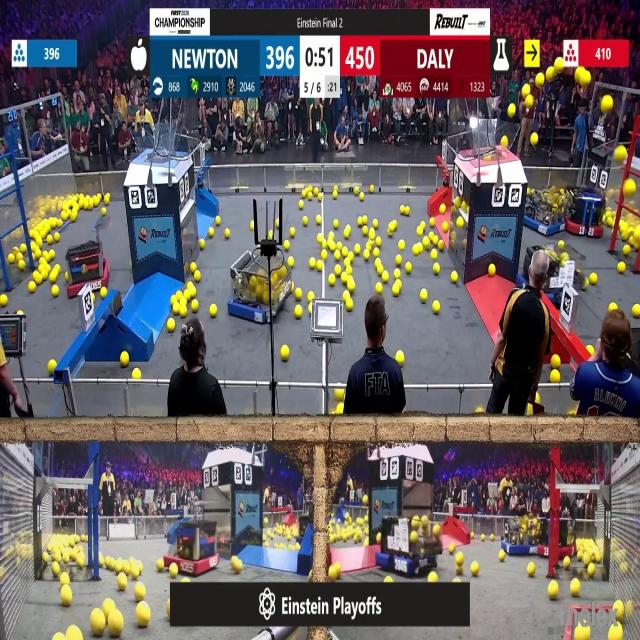ball_airborne: (601, 96, 612, 114), (580, 71, 592, 86), (616, 146, 628, 160), (625, 180, 636, 194), (555, 59, 564, 73), (535, 74, 544, 86), (507, 104, 514, 118), (523, 86, 531, 98), (526, 96, 534, 108), (545, 68, 553, 80), (531, 134, 538, 146), (145, 110, 152, 122), (500, 137, 507, 148), (362, 496, 368, 505)
ball_ground: (108, 615, 123, 638), (92, 614, 106, 638), (137, 603, 150, 627), (550, 582, 560, 600), (62, 588, 72, 606), (135, 585, 146, 601), (68, 628, 82, 640), (570, 581, 579, 599), (616, 602, 625, 620), (233, 557, 243, 573), (613, 626, 624, 640), (117, 573, 126, 590), (328, 565, 338, 580), (574, 628, 586, 640), (119, 351, 128, 366), (281, 345, 289, 361), (552, 354, 561, 368), (551, 371, 561, 383), (76, 556, 85, 568), (170, 564, 178, 577), (470, 562, 478, 575), (168, 319, 176, 332), (47, 359, 55, 372), (632, 305, 640, 318), (337, 388, 345, 401), (428, 571, 437, 582), (61, 573, 70, 584), (210, 305, 217, 319), (421, 288, 428, 302), (54, 563, 61, 577), (432, 302, 440, 314), (590, 274, 598, 286), (588, 564, 596, 576), (172, 304, 180, 316), (104, 599, 112, 611), (0, 347, 5, 366), (528, 563, 535, 576), (294, 306, 301, 319), (526, 405, 533, 418), (132, 566, 139, 579), (106, 557, 113, 570), (346, 301, 354, 312), (133, 367, 141, 378), (49, 272, 57, 283), (382, 273, 390, 284), (1, 294, 8, 306), (190, 302, 197, 314), (51, 285, 58, 297), (294, 288, 301, 300), (456, 554, 463, 566), (489, 266, 496, 278), (99, 286, 106, 298), (396, 352, 403, 364), (158, 560, 165, 572), (33, 272, 40, 284), (99, 556, 106, 568), (392, 285, 400, 295), (192, 272, 200, 282), (39, 272, 47, 282), (42, 554, 50, 564), (180, 307, 187, 318), (336, 266, 343, 277), (430, 249, 437, 260), (316, 261, 323, 272), (457, 217, 464, 228), (29, 282, 36, 293), (327, 241, 334, 252), (452, 272, 458, 284), (377, 264, 383, 276), (307, 260, 313, 272), (338, 406, 345, 416), (394, 270, 401, 280), (17, 262, 24, 272), (47, 250, 54, 260), (423, 239, 430, 249), (345, 254, 352, 264), (413, 244, 420, 254), (620, 264, 626, 275), (348, 280, 354, 291), (407, 264, 413, 275), (355, 244, 361, 255), (431, 238, 437, 249), (55, 633, 64, 640), (188, 288, 195, 297), (316, 234, 323, 243), (356, 217, 363, 226), (389, 220, 396, 229), (365, 241, 372, 250), (377, 283, 383, 293), (396, 255, 402, 265), (498, 552, 504, 562), (433, 265, 439, 275), (308, 291, 314, 301), (564, 558, 570, 568), (284, 240, 290, 250), (624, 246, 630, 256), (441, 205, 447, 215), (345, 228, 350, 240), (398, 240, 404, 250), (328, 276, 334, 286), (449, 542, 455, 552), (289, 229, 295, 239), (588, 346, 594, 356), (363, 250, 369, 260), (534, 393, 540, 403), (336, 250, 342, 260), (456, 564, 462, 574), (439, 241, 445, 251), (344, 290, 350, 300), (104, 192, 110, 202), (606, 217, 612, 227), (64, 554, 70, 564), (94, 199, 100, 209), (576, 552, 582, 562), (608, 304, 615, 312), (385, 575, 392, 583), (374, 248, 381, 256), (35, 250, 42, 258), (288, 256, 293, 267), (316, 215, 322, 224), (200, 240, 206, 249), (189, 264, 195, 273), (321, 250, 327, 259), (55, 234, 61, 243), (342, 248, 348, 257), (371, 219, 377, 228), (335, 219, 341, 228), (388, 229, 394, 238), (19, 244, 25, 253), (83, 201, 89, 210), (31, 241, 37, 250), (42, 250, 48, 259), (224, 230, 229, 240), (377, 238, 382, 248), (342, 274, 347, 284), (418, 225, 423, 235), (377, 533, 382, 543), (368, 229, 373, 239), (444, 222, 450, 230), (347, 268, 353, 276), (186, 282, 192, 290), (331, 190, 337, 198), (429, 218, 435, 226), (176, 290, 182, 298), (308, 192, 314, 200), (363, 538, 369, 546), (46, 236, 52, 244), (172, 294, 178, 302), (405, 208, 411, 216), (317, 192, 323, 200), (298, 201, 303, 210), (209, 229, 214, 238), (304, 216, 309, 225), (399, 206, 404, 215), (8, 254, 13, 263), (362, 225, 367, 234), (322, 240, 327, 249), (71, 213, 76, 222), (454, 576, 461, 582), (182, 576, 189, 582), (56, 266, 62, 273), (475, 409, 481, 416), (250, 220, 254, 230), (309, 304, 313, 314), (269, 232, 274, 240), (472, 534, 477, 542), (362, 216, 367, 224), (338, 242, 343, 250), (328, 232, 333, 240), (559, 240, 564, 248), (359, 192, 364, 200), (586, 278, 590, 288), (39, 256, 44, 264), (288, 543, 293, 550), (216, 216, 220, 224), (100, 208, 104, 216), (276, 219, 280, 227), (482, 534, 486, 541), (369, 185, 373, 192), (65, 273, 69, 280), (491, 534, 495, 540), (295, 543, 299, 549)
goal: (466, 122, 522, 160), (128, 130, 187, 160)
robot_blue: (230, 253, 295, 326), (376, 514, 443, 578), (522, 186, 566, 236), (502, 514, 542, 556)
robot_red: (163, 518, 220, 578), (65, 242, 109, 298), (566, 186, 605, 238), (538, 513, 578, 558)
